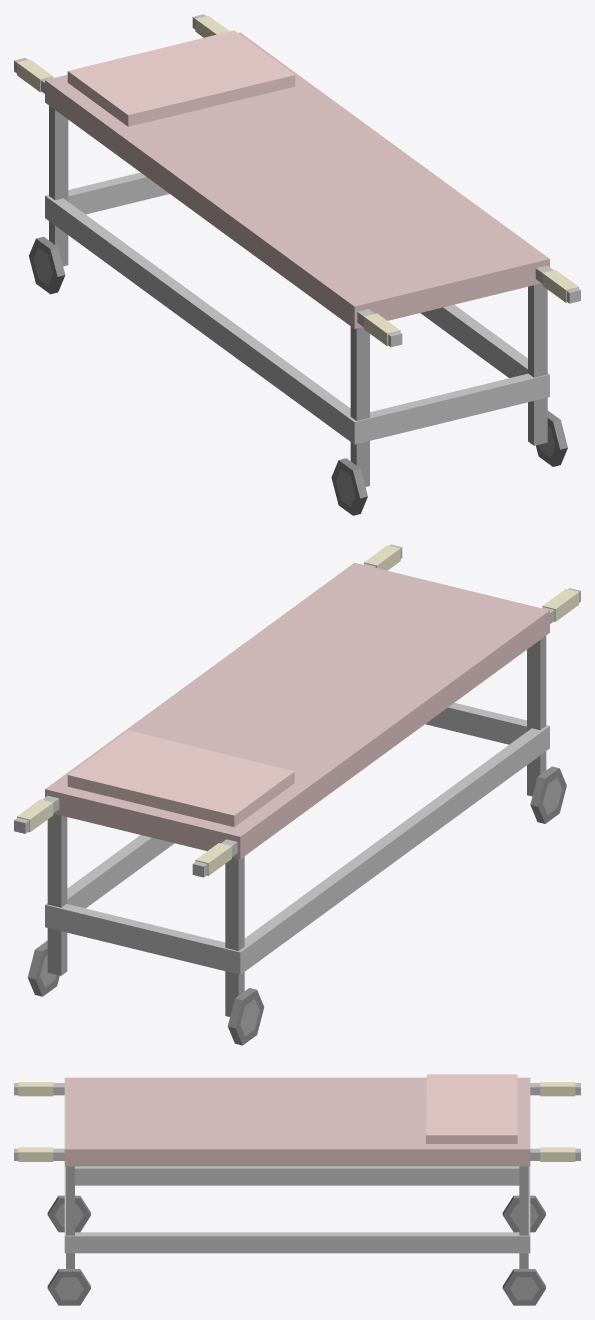
The model's file is medical trolley_1.fbx.
3 views of the same model, one above another, from view 1: azimuth 30°, elevation 25°; view 2: azimuth 150°, elevation 25°; view 3: azimuth 270°, elevation 25° (orthographic). The views are drawn at different scales.
Visible parts, largest first — view 1: Cube_11; view 2: Cube_11; view 3: Cube_11.
Boxes of the visible parts, x1=… form: Cube_11: x1=14, y1=14, x2=580, y2=515; Cube_11: x1=14, y1=544, x2=580, y2=1045; Cube_11: x1=14, y1=1074, x2=580, y2=1305.
Size of the model in its own units: 34.31 by 34.15 by 108.
